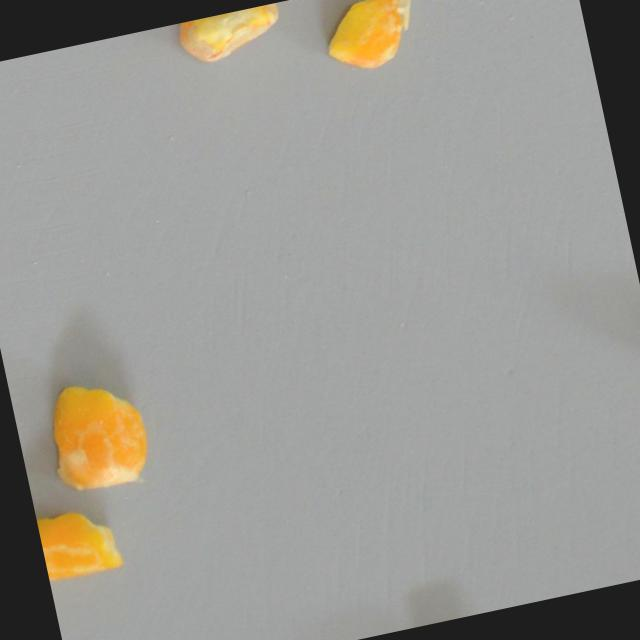pelicula: (35, 363, 179, 499), (308, 0, 445, 86), (165, 0, 295, 76), (34, 496, 132, 596)
